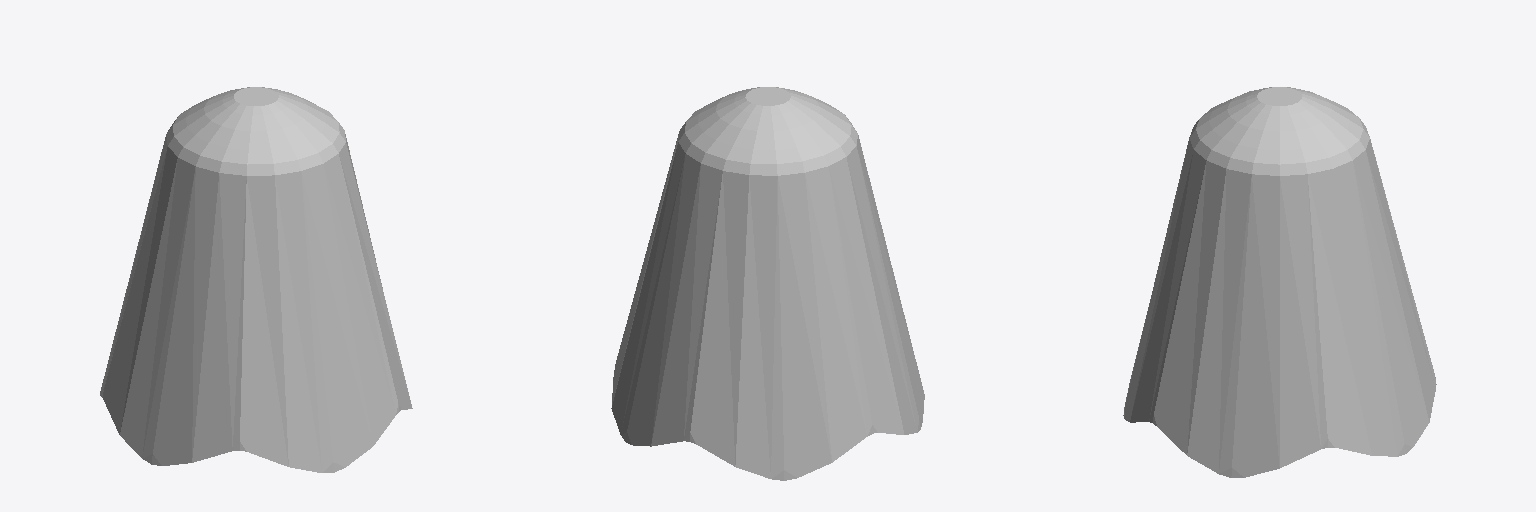
Rendered from ghost.obj.
3 renders of one model, left to right at view 1: azimuth 30°, elevation 25°; view 2: azimuth 150°, elevation 25°; view 3: azimuth 270°, elevation 25°, orthographic.
Parts seen in each view (by area): view 1: Cylinder; view 2: Cylinder; view 3: Cylinder.
Boxes of the visible parts, <box> form: Cylinder: <box>100,87,412,472</box>; Cylinder: <box>611,87,924,480</box>; Cylinder: <box>1123,87,1436,477</box>.
Size of the model in its own units: 2 by 2.23 by 1.99.